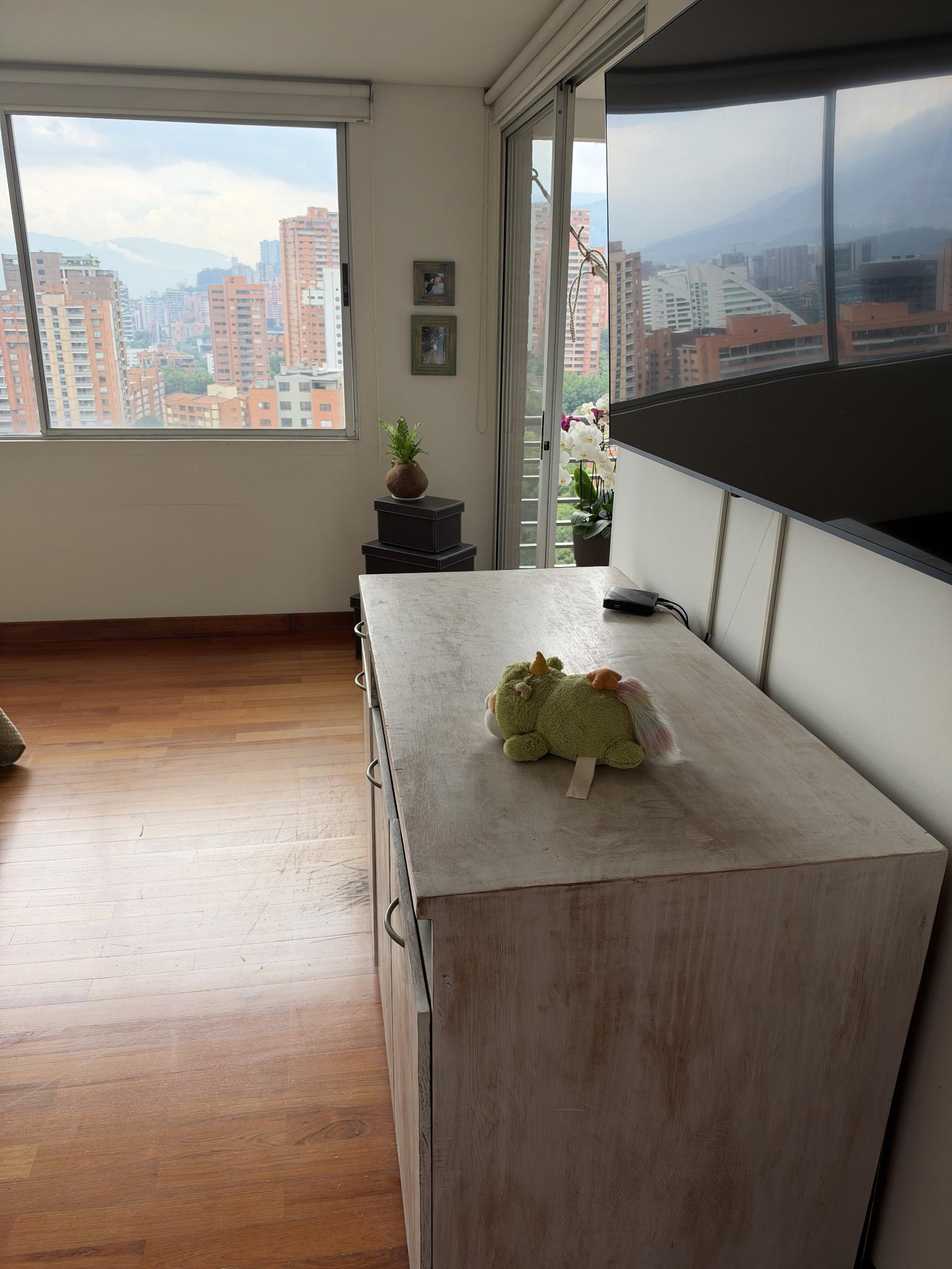peluche_martin: (483, 649, 691, 769)
